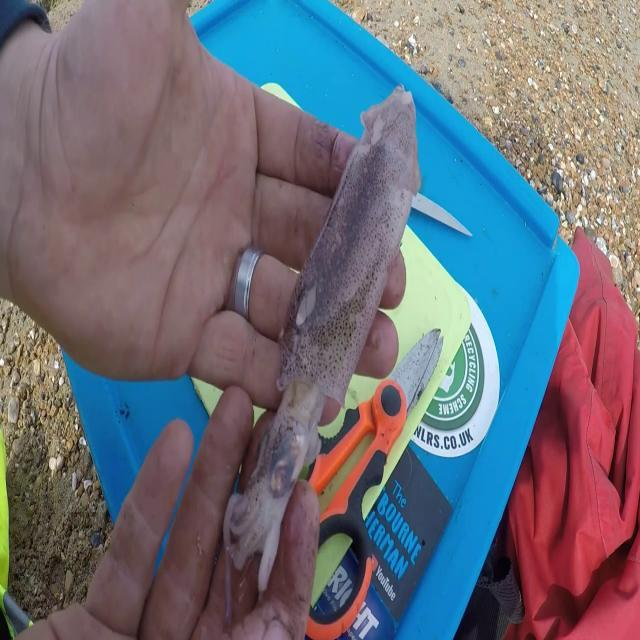SQUID: (203, 76, 458, 640)
